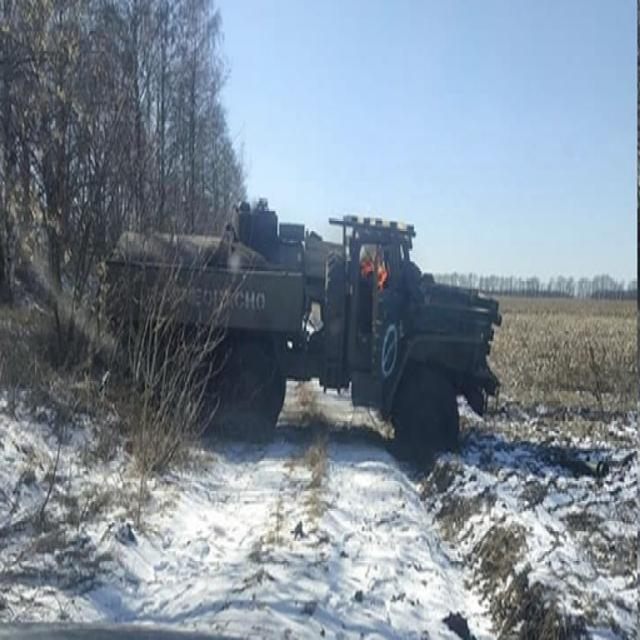TRUCK: (95, 184, 510, 473)
